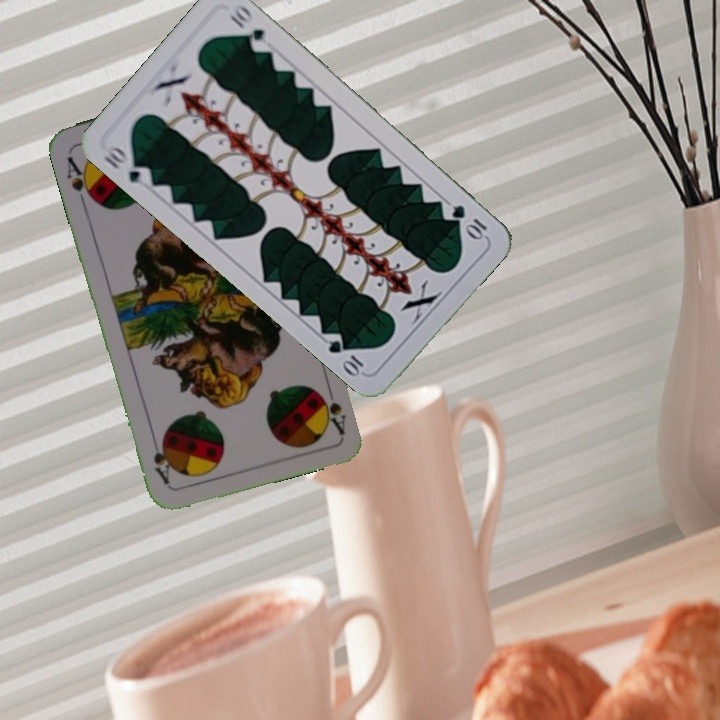G10: (100, 140, 155, 190), (447, 200, 490, 242)
SA: (62, 152, 98, 208), (317, 379, 348, 437)
